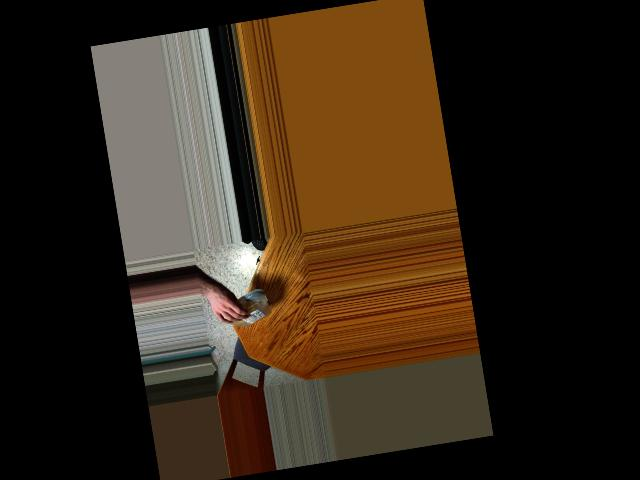cheese: (226, 290, 269, 329)
